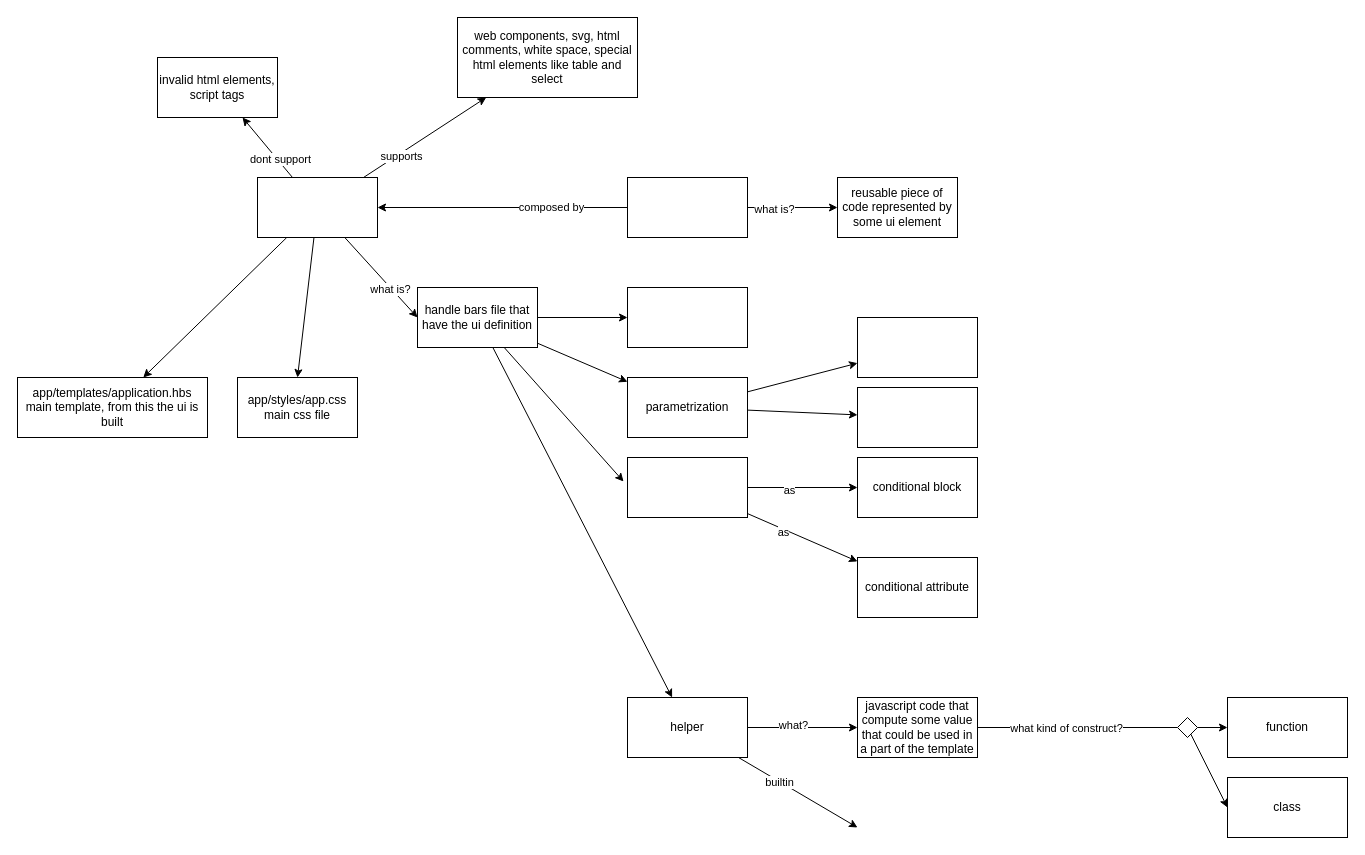
Some shapes in this 1365 by 855 pixel diagram are drawn without their labels. The shapes that lost their labels are listed below. From the top down, each one's centre as x and y in pixels, then its label:
At pixel 317 207: "templates".
At pixel 687 207: "components app/components".
At pixel 687 317: "regular element attributes specification".
At pixel 917 347: "attribute".
At pixel 917 417: "content {{@yield}}".
At pixel 687 487: "conditional content".
